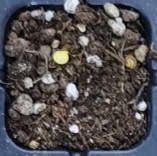pepper seed: (18, 16, 87, 82)
